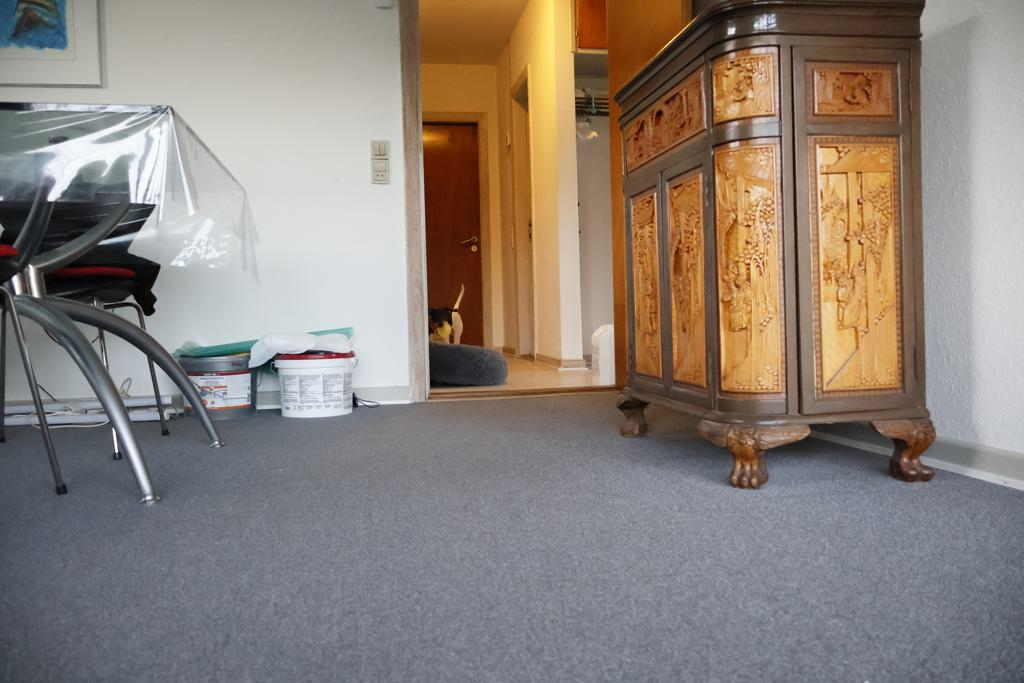Dog: (424, 280, 469, 348)
